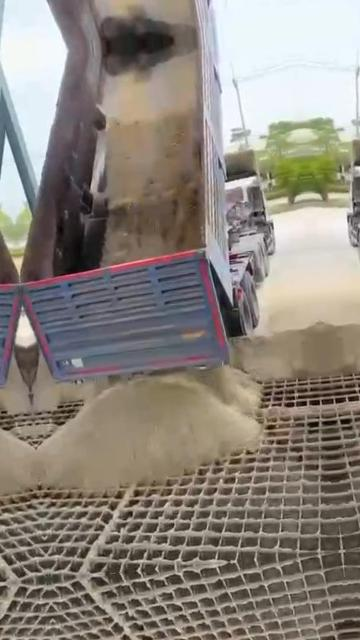sand: (36, 367, 260, 488), (101, 50, 205, 265), (231, 322, 325, 380), (81, 486, 133, 569), (32, 353, 94, 412), (266, 405, 328, 419)
